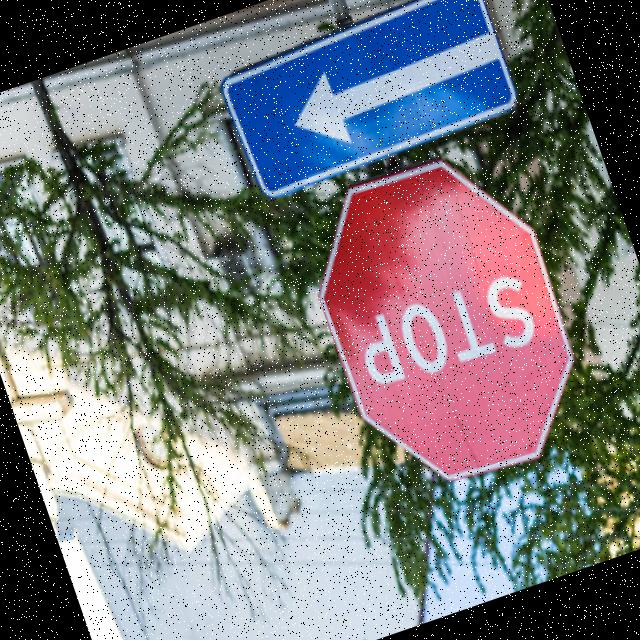stop: (265, 117, 630, 536)
